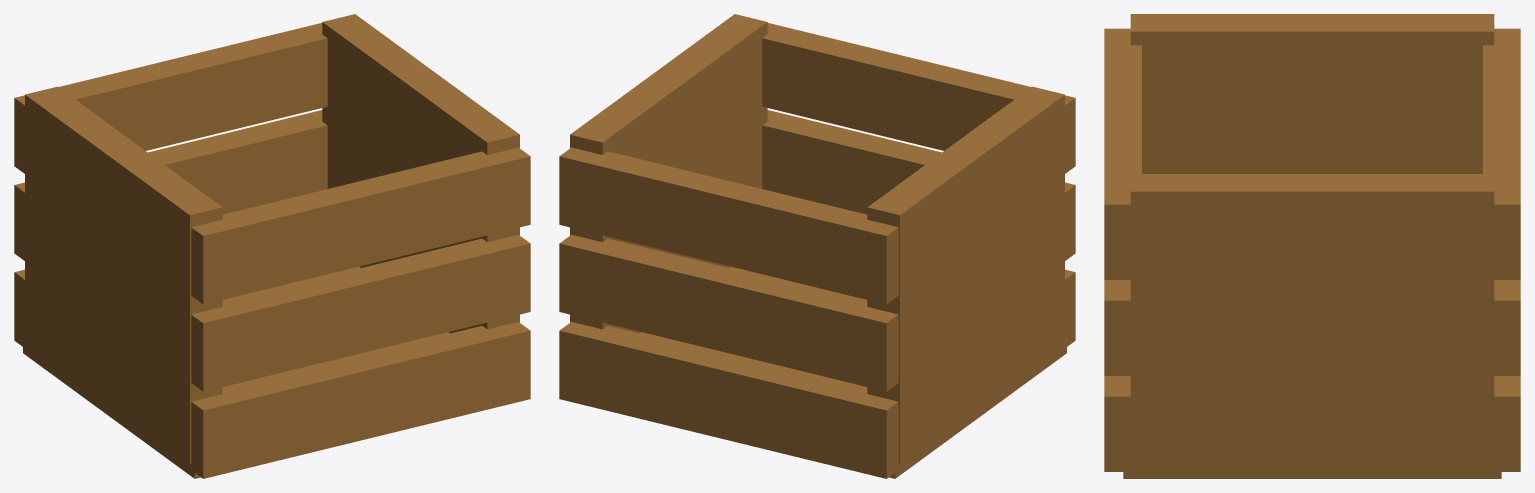
Rendered from ToolCrate.fbx.
3 renders of one model, left to right at view 1: azimuth 30°, elevation 25°; view 2: azimuth 150°, elevation 25°; view 3: azimuth 270°, elevation 25°, orthographic. The views are drawn at different scales.
Parts seen in each view (by area): view 1: ToolCrate_Export; view 2: ToolCrate_Export; view 3: ToolCrate_Export.
Boxes of the visible parts, left/top/right/bottom form: ToolCrate_Export: left=14, top=14, right=530, bottom=478; ToolCrate_Export: left=559, top=14, right=1075, bottom=478; ToolCrate_Export: left=1104, top=14, right=1520, bottom=478.
Bounding box in the file's own units: 0.555 × 0.42 × 0.55.
